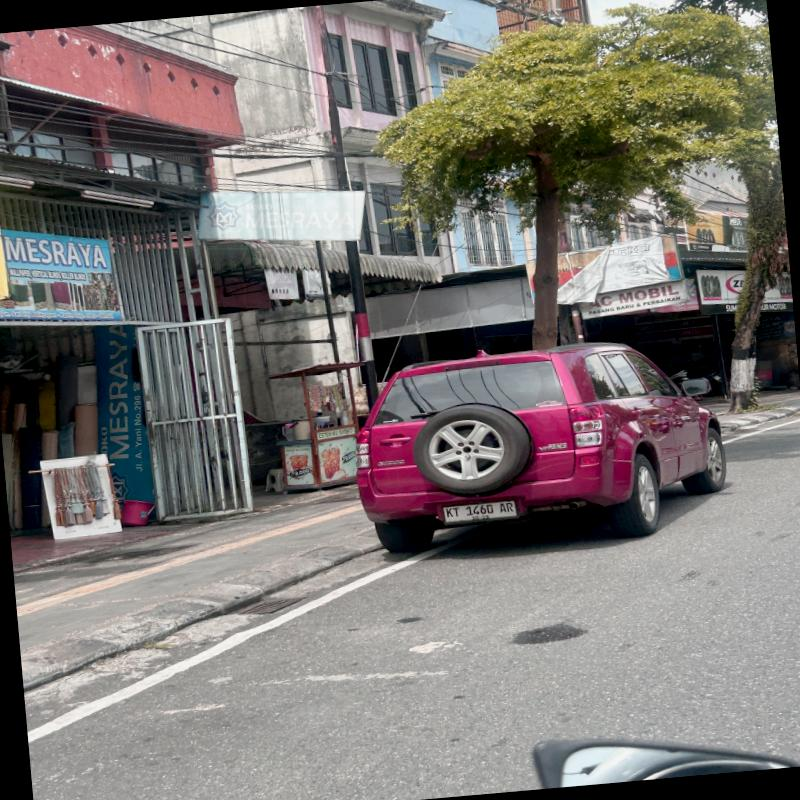license plate on a car: (442, 501, 517, 521)
